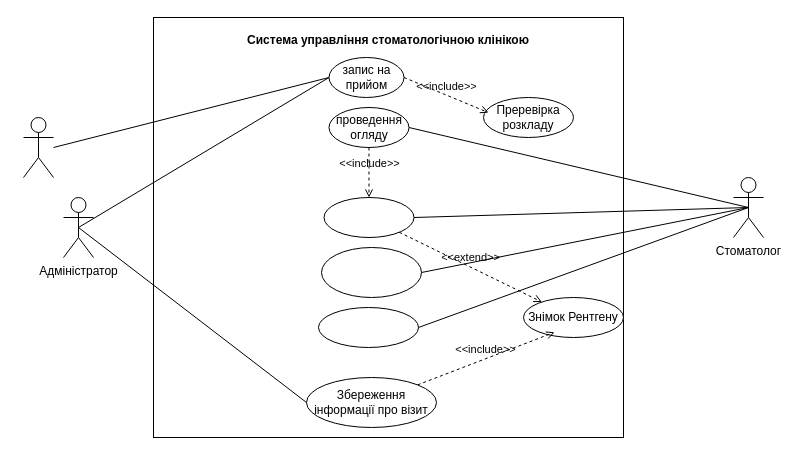
Image size: 798x455. Some labels were removed from this diagram. Here are the shapes that lost their labels. From the top down, the centre of each, then its label:
pixel 38 147: Пацієнт
pixel 368 217: Встановлення діагнозу
pixel 371 272: Складання плану лікування
pixel 368 327: Проведення лікування
